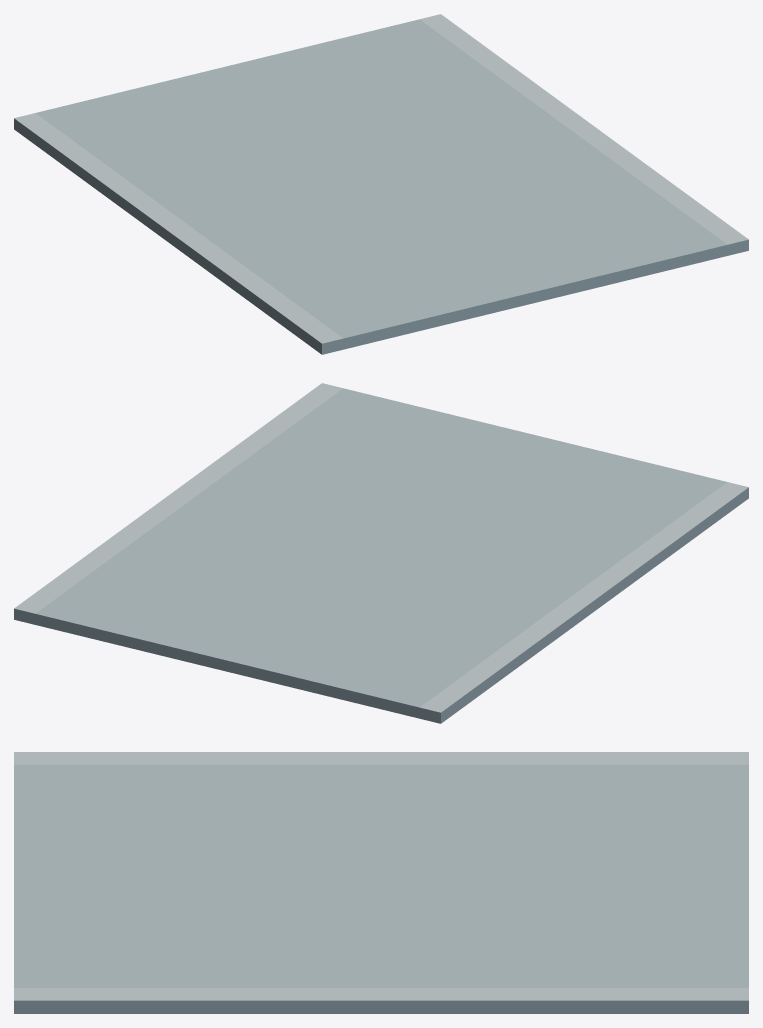
The model's file is campus_walk_straight_v01.glb.
The picture shows the model from 3 angles, top to bottom: view 1: azimuth 30°, elevation 25°; view 2: azimuth 150°, elevation 25°; view 3: azimuth 270°, elevation 25°; orthographic projection. The views are drawn at different scales.
Parts seen in each view (by area): view 1: campus_walk_straight; view 2: campus_walk_straight; view 3: campus_walk_straight.
Part boxes in pixels (bbox=[...]): campus_walk_straight: bbox=[14, 14, 748, 354]; campus_walk_straight: bbox=[14, 383, 748, 723]; campus_walk_straight: bbox=[14, 752, 748, 1013].
Bounding box in the file's own units: 3.2 × 0.08 × 4.
